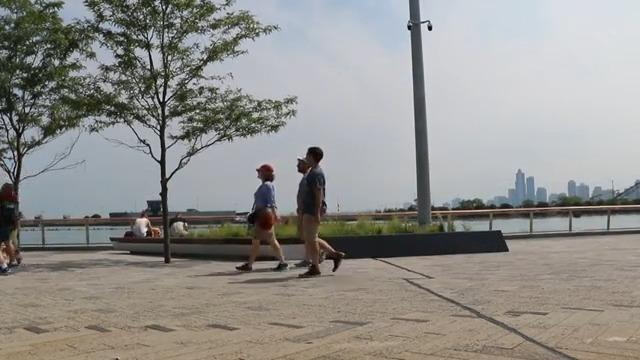no-helmet: (255, 163, 276, 182), (306, 146, 323, 166)
